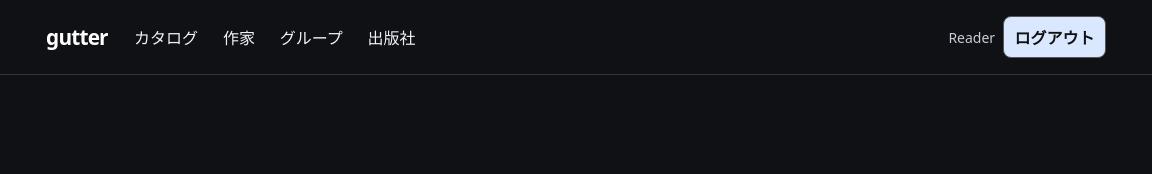
Test: session shell › shows the session and clears it only after successful sign-out
Check: the text "Reader" is shown, box [948, 28, 995, 47]
Click the button "ログアウト" at (1054, 37), box [1003, 16, 1106, 58]
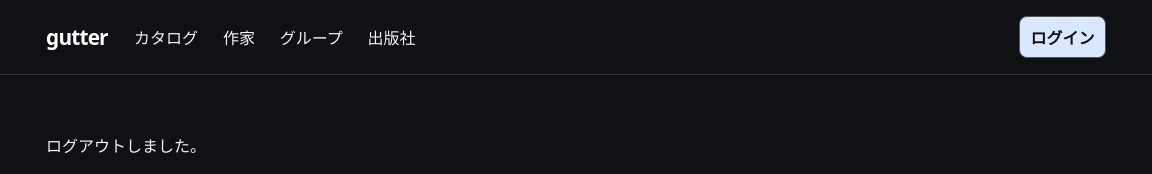
Check: the message shows "ログアウトしました", box [46, 135, 206, 157]
Check: the link "ログイン" is shown, box [1019, 16, 1106, 58]
